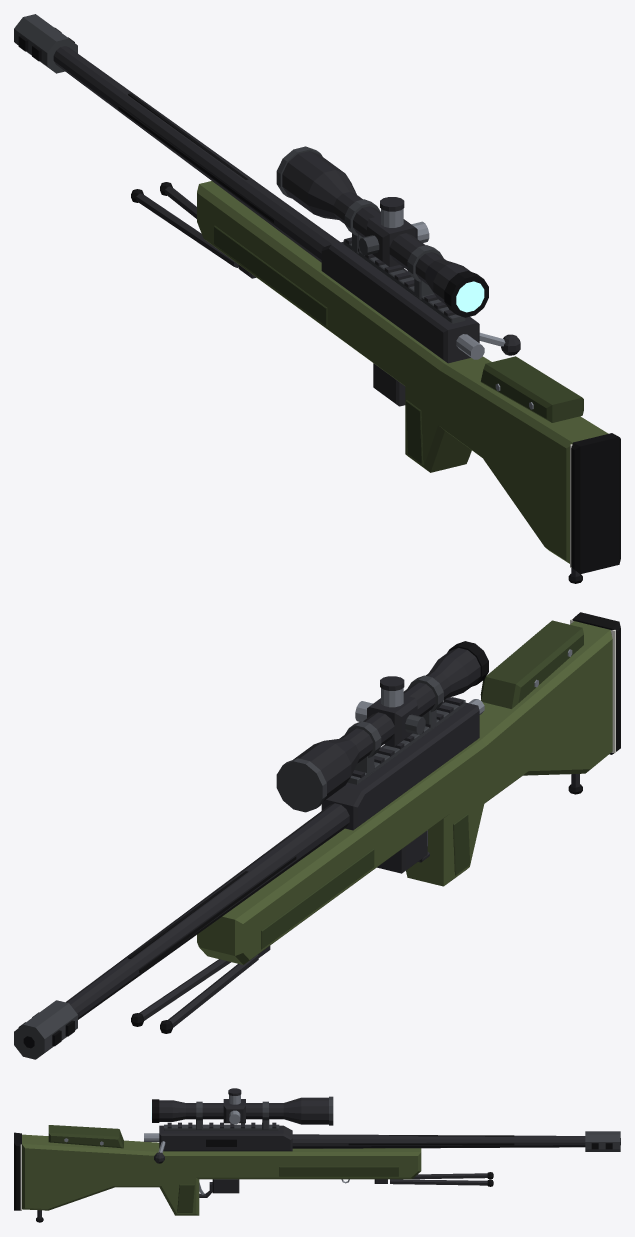
The model's file is sniper.glb.
The picture shows the model from 3 angles, top to bottom: view 1: azimuth 30°, elevation 25°; view 2: azimuth 150°, elevation 25°; view 3: azimuth 270°, elevation 25°; orthographic projection. The views are drawn at different scales.
Visible parts, largest first — view 1: body, bolt, mag; view 2: body, mag; view 3: body, mag, bolt.
Part boxes in pixels (x1,y1,x2,y2): body: (14, 14, 620, 583); bolt: (456, 332, 520, 359); mag: (373, 363, 405, 406); body: (14, 612, 620, 1059); mag: (377, 830, 427, 873); body: (14, 1088, 620, 1222); mag: (212, 1179, 239, 1193); bolt: (144, 1133, 165, 1163).
Bounding box in the file's own units: 0.1184 × 0.326 × 1.37.
